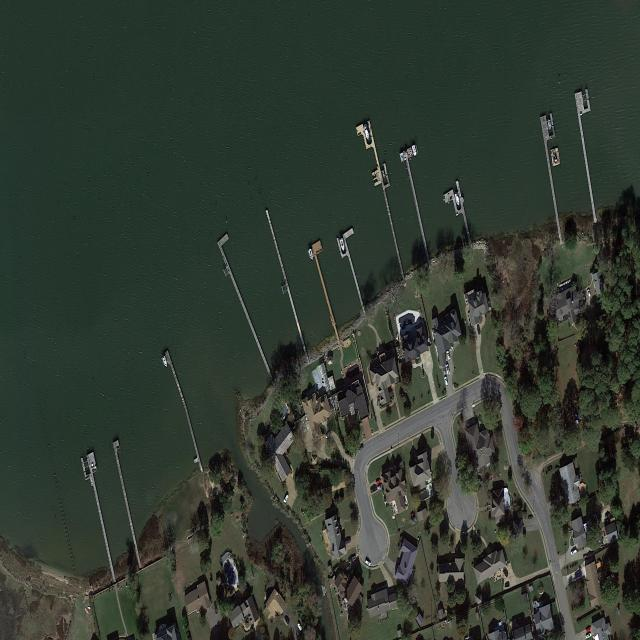ship: (363, 123, 371, 141), (339, 237, 346, 252), (454, 192, 461, 207), (308, 248, 314, 262), (162, 355, 168, 369), (411, 144, 417, 157), (297, 622, 303, 632), (547, 119, 552, 131), (84, 607, 89, 614), (87, 606, 91, 610)
small-vehicle: (573, 414, 579, 428), (282, 493, 289, 504), (445, 363, 450, 376), (348, 556, 356, 564), (585, 632, 592, 640), (503, 569, 509, 578), (444, 376, 449, 386), (446, 350, 451, 360), (370, 486, 377, 493), (575, 572, 582, 579), (585, 626, 592, 633), (325, 431, 331, 439), (285, 617, 290, 626), (577, 411, 582, 420), (476, 327, 481, 336), (214, 603, 218, 614), (376, 478, 382, 485), (377, 484, 383, 491), (345, 538, 351, 545), (365, 560, 371, 567), (571, 549, 577, 556), (358, 446, 363, 454), (582, 292, 586, 302), (587, 288, 591, 298), (442, 365, 446, 375), (605, 513, 611, 518), (597, 298, 602, 304), (505, 583, 510, 589), (377, 397, 380, 406)
